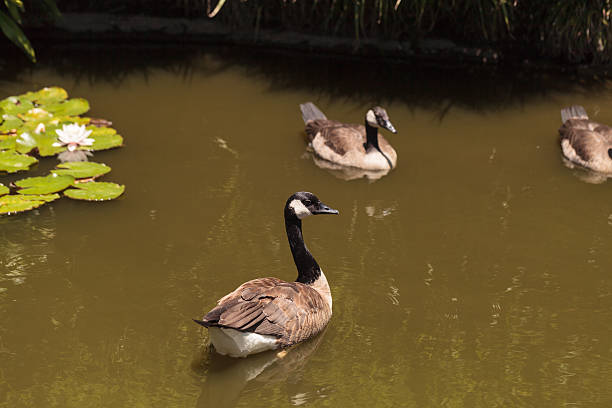goose: (193, 189, 342, 363), (295, 98, 399, 176), (555, 104, 612, 187)
